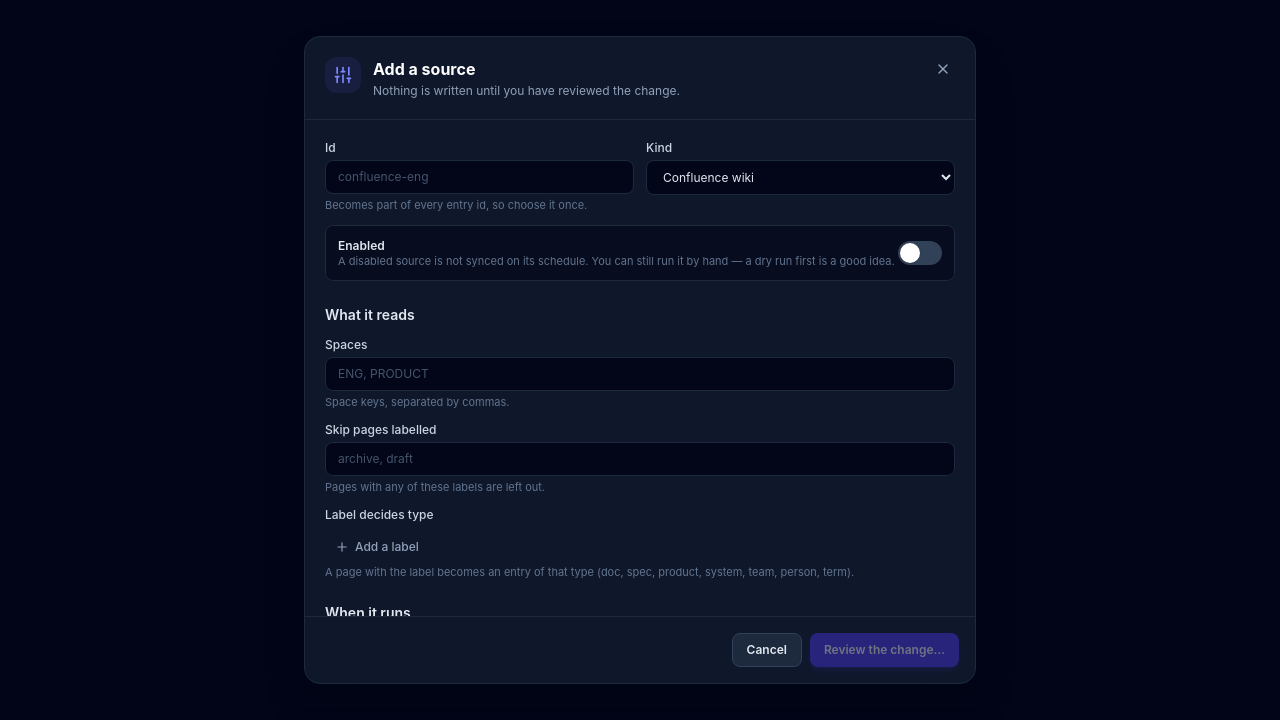
Test: SourceEditorModal › shows the server's reason when it refuses the change
The width and height of the screenshot is (1280, 720).
Select "Jira issues" in the dropdown labelled "Kind": (800, 178) left=646, top=160, right=955, bottom=195
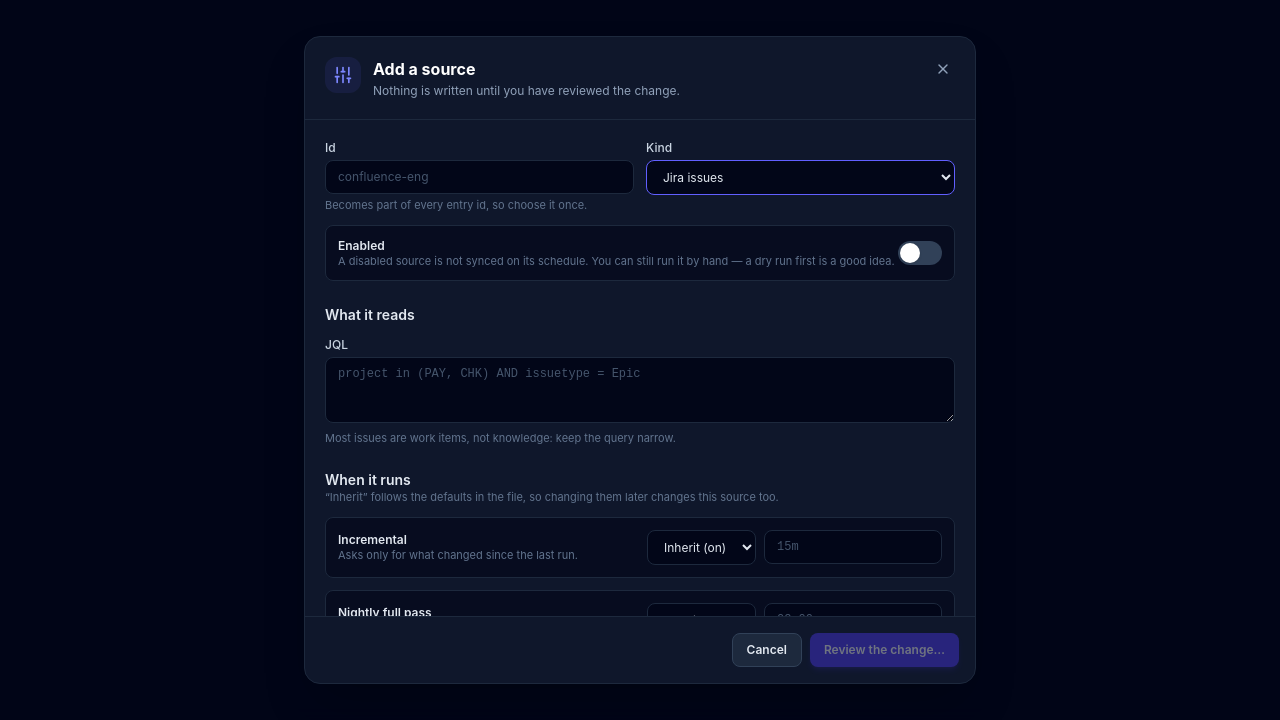
In the field labelled "Id": (480, 177) left=325, top=160, right=634, bottom=194, type "jira-ops"
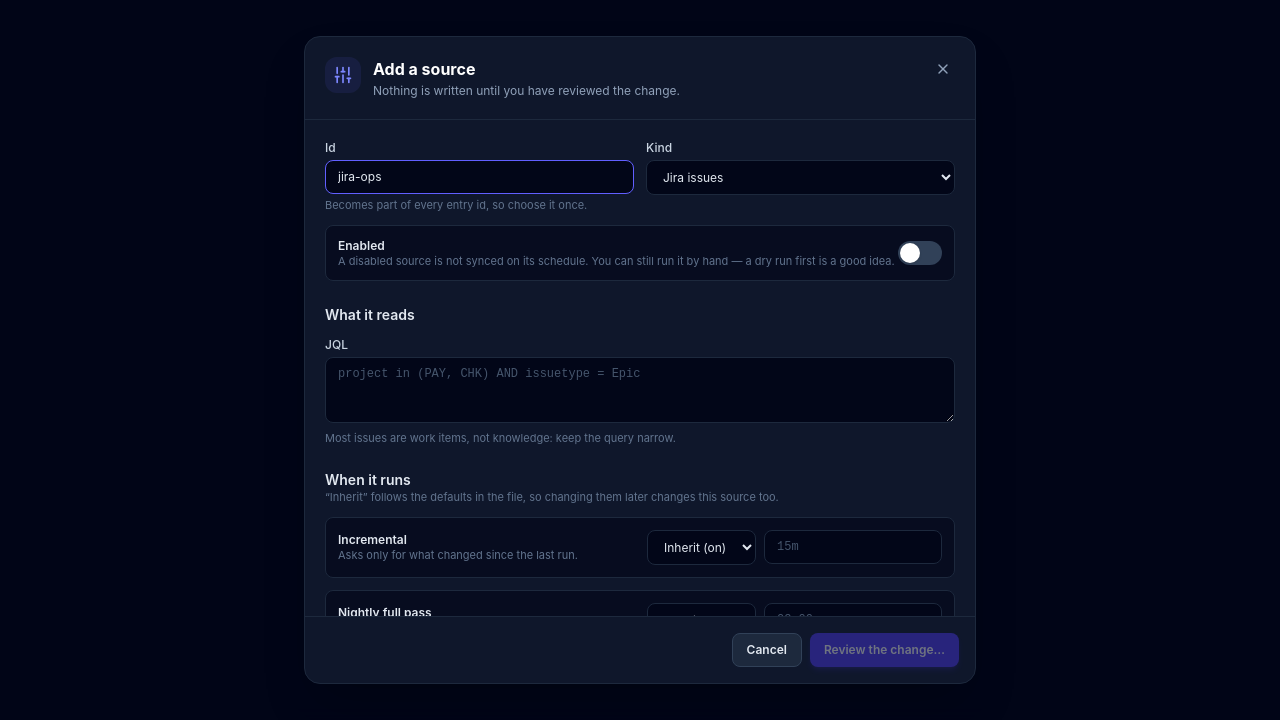
In the text box labelled "JQL": (640, 390) left=325, top=357, right=955, bottom=423, type "x"
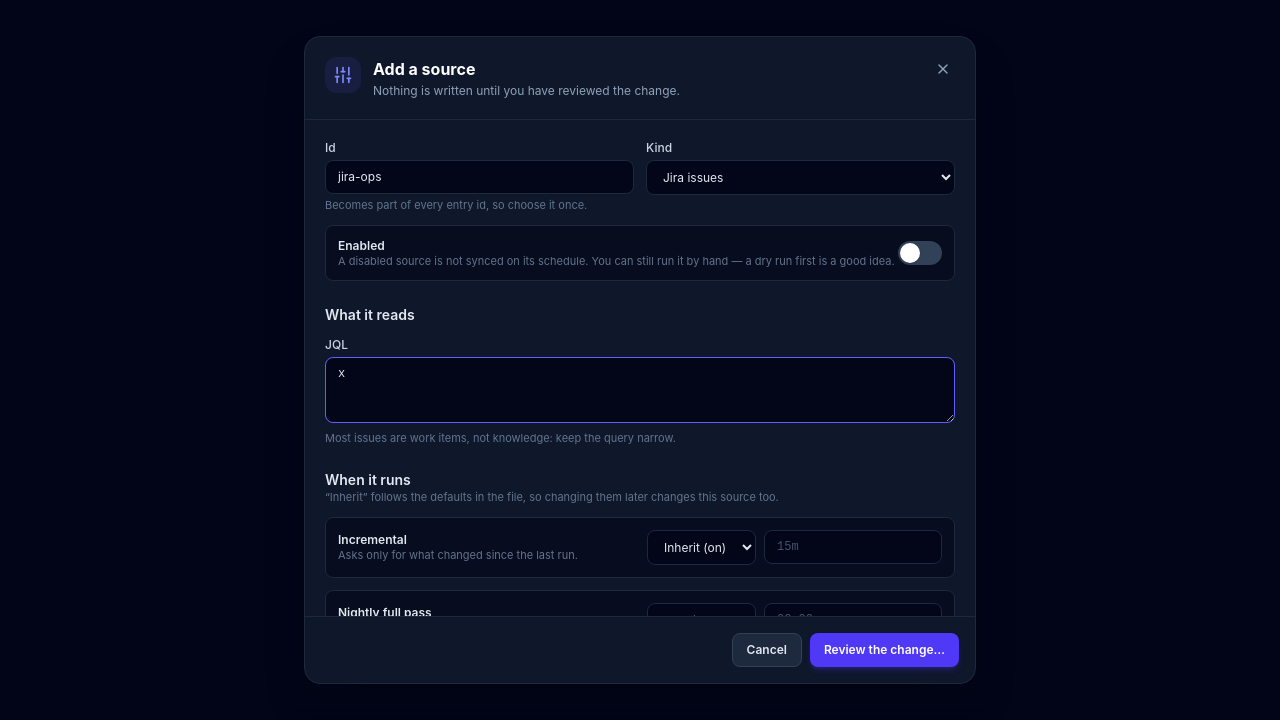
Click the button "Review the change…": (884, 650) left=810, top=633, right=959, bottom=667
(page scrolled)
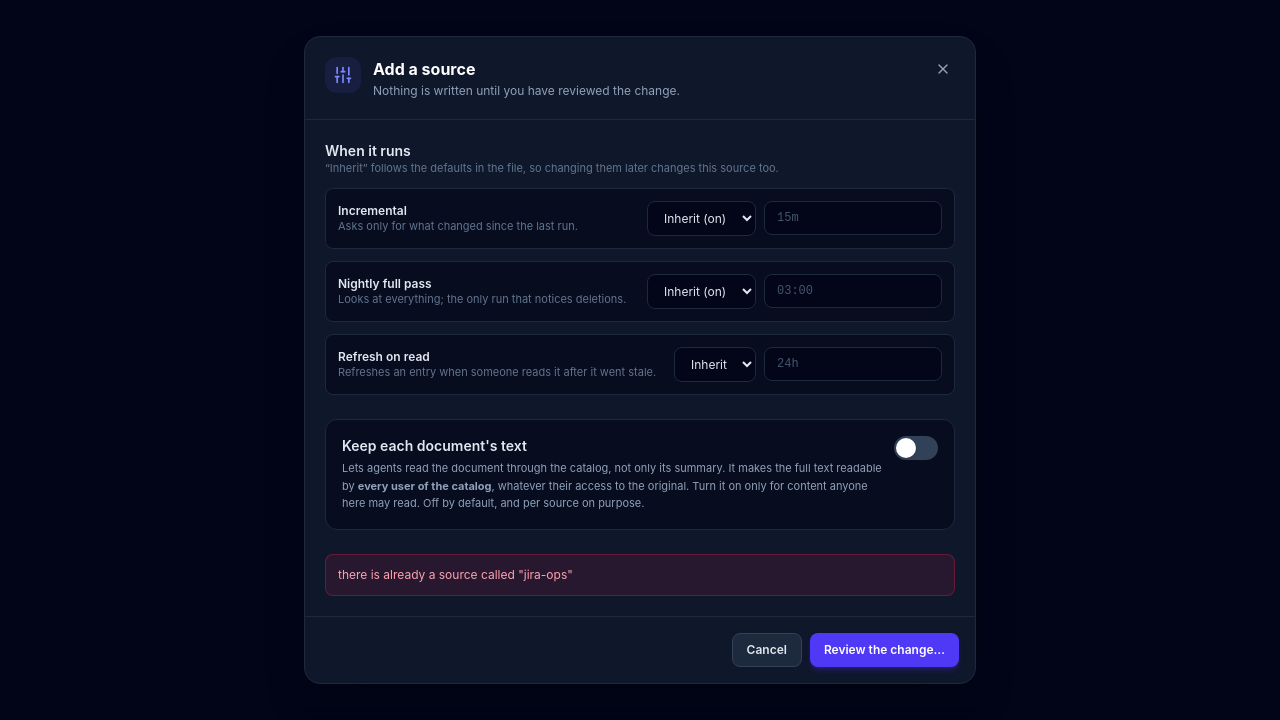
Expected: the message shows "already a source called", left=338, top=567, right=573, bottom=582
